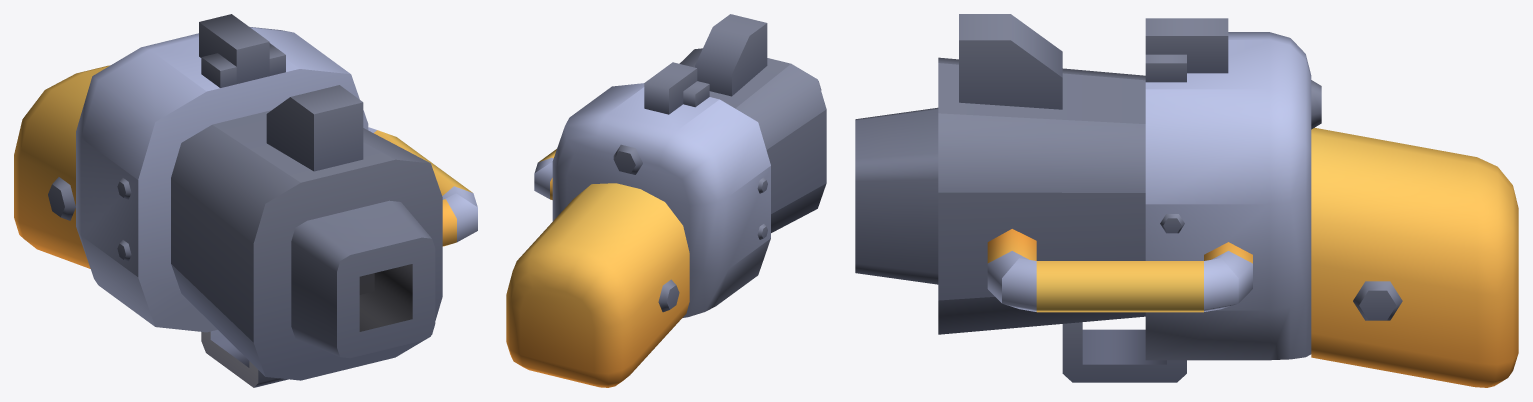
The model's file is Blaster.fbx.
The picture shows the model from 3 angles, left to right: view 1: azimuth 30°, elevation 25°; view 2: azimuth 150°, elevation 25°; view 3: azimuth 270°, elevation 25°; orthographic projection. The views are drawn at different scales.
Visible parts, largest first — view 1: blaster; view 2: blaster; view 3: blaster.
Boxes of the visible parts, box(x1,y1,x2,y2) form: blaster: box(14, 14, 477, 387); blaster: box(506, 14, 826, 387); blaster: box(855, 14, 1518, 387).
Size of the model in its own units: 0.2311 by 0.2363 by 0.42.
1 material, 1 textured.
